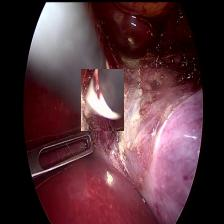Grasper: (23, 127, 96, 182)
Hook: (80, 68, 123, 130)
